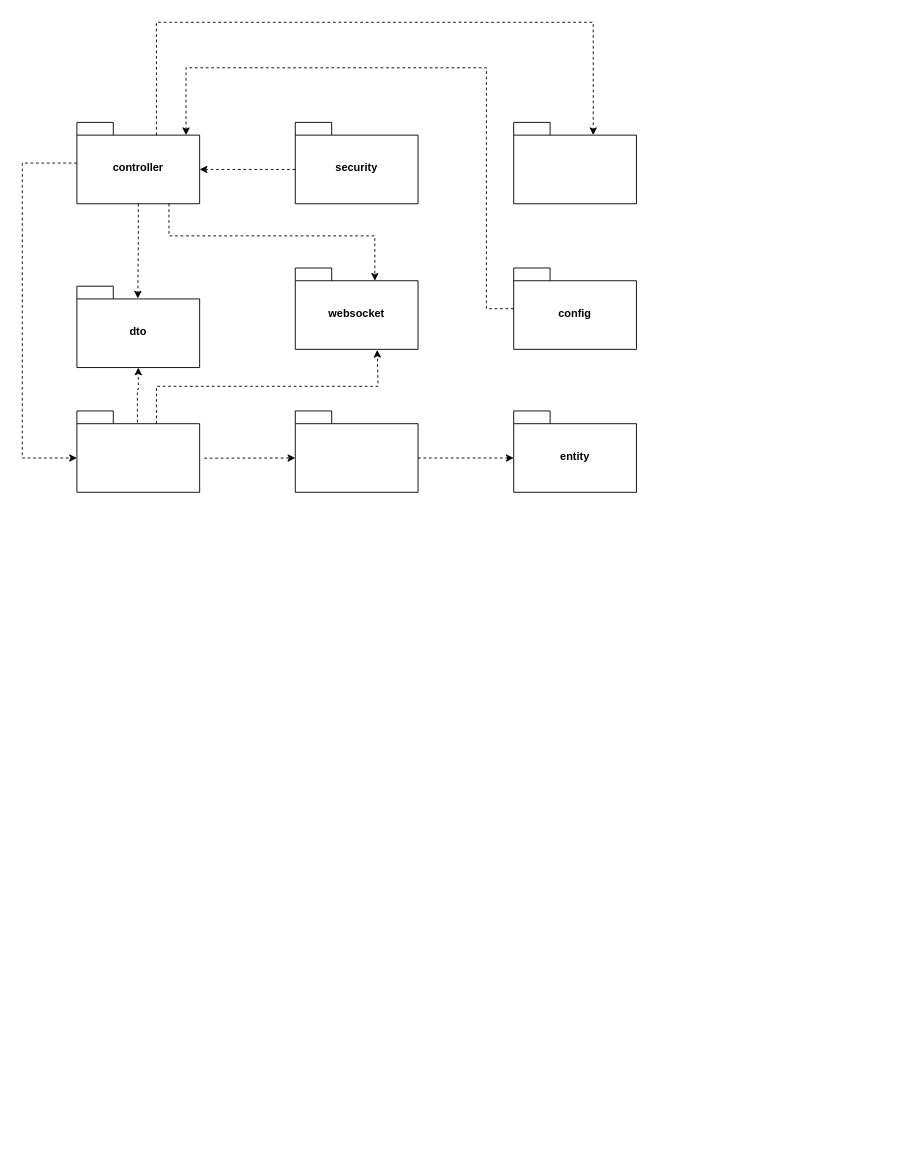
Image size: 921x1175. Some labels were removed from this diagram. The centre of each missing label's shape, as x and y in pixels:
repository: point (356, 451)
service: point (138, 451)
utility: point (574, 162)
